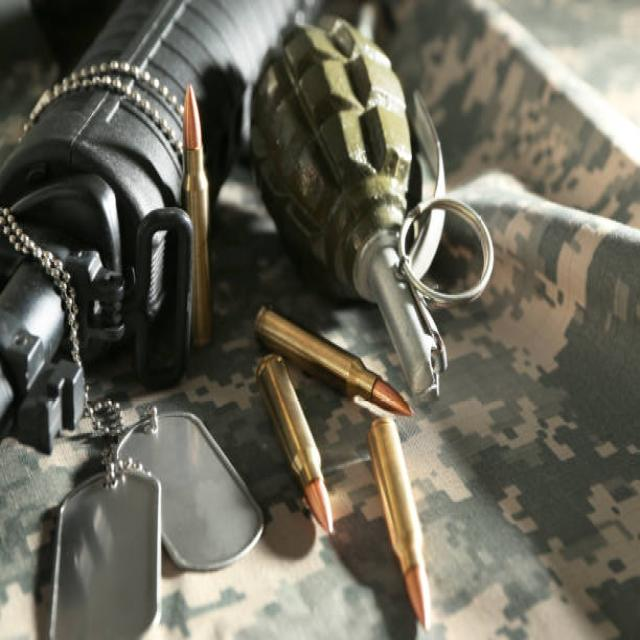grenade: (249, 8, 497, 406)
